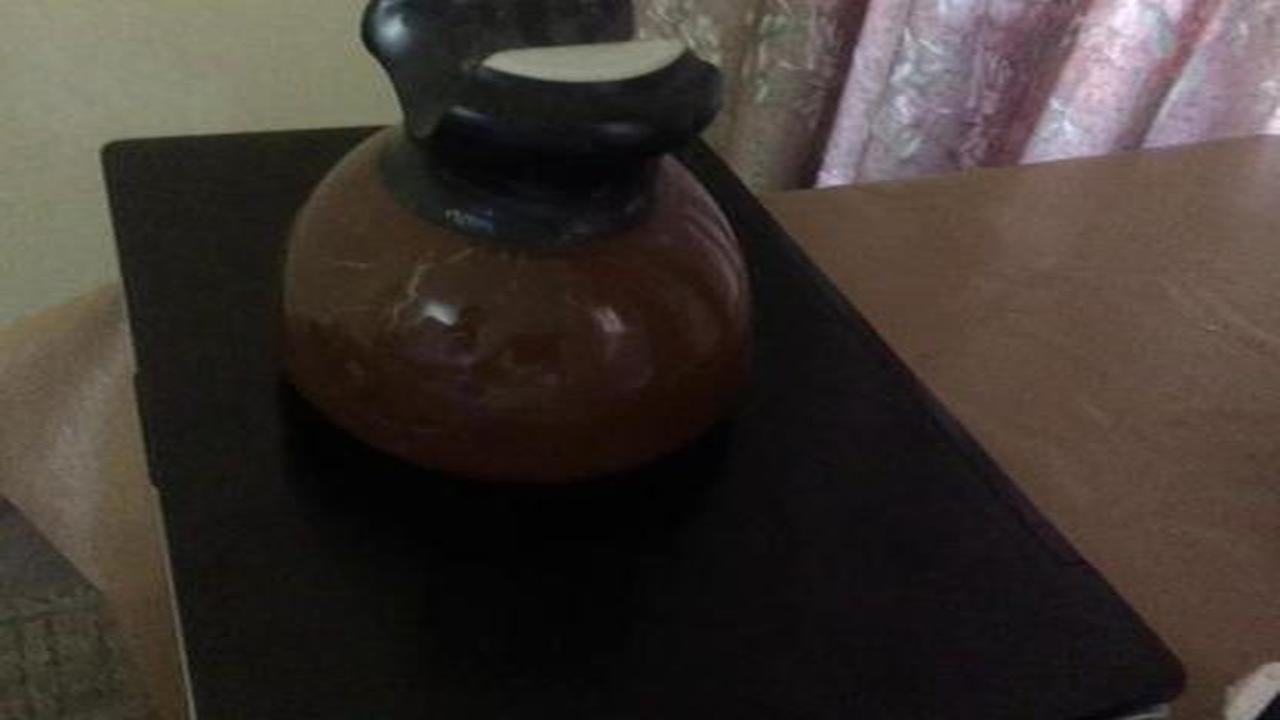insulator_pin: (240, 3, 791, 513)
